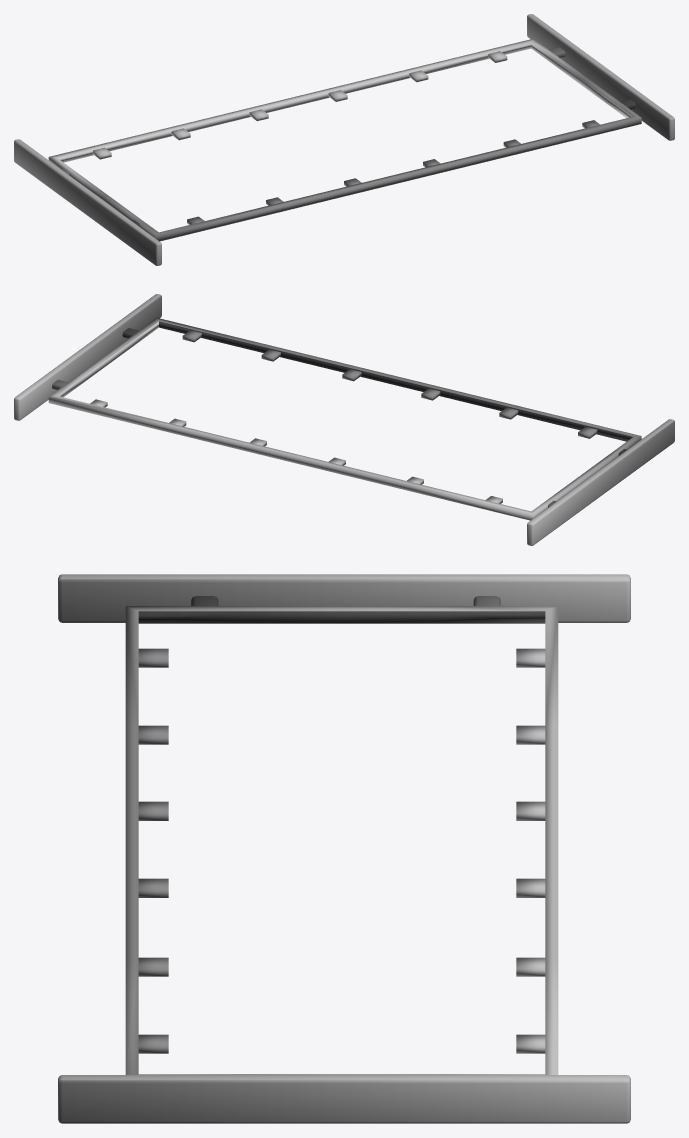
The model's file is Panneau.fbx.
3 views of the same model, one above another, from view 1: azimuth 30°, elevation 25°; view 2: azimuth 150°, elevation 25°; view 3: azimuth 270°, elevation 25° (orthographic). The views are drawn at different scales.
Visible parts, largest first — view 1: Cube.011; view 2: Cube.011; view 3: Cube.011.
Part boxes in pixels (x1,y1,x2,y2): Cube.011: [14, 14, 674, 265]; Cube.011: [14, 294, 674, 545]; Cube.011: [58, 574, 630, 1123].
Size of the model in its own units: 6055 by 255 by 2891.
